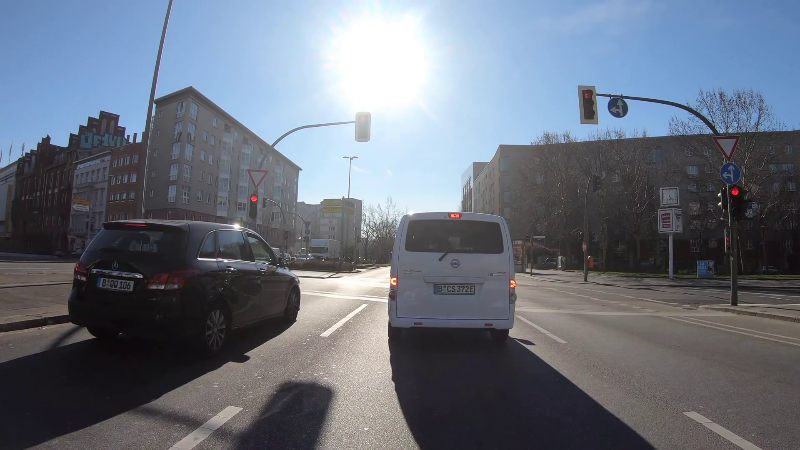Plate: (94, 275, 136, 293), (430, 281, 476, 297)
